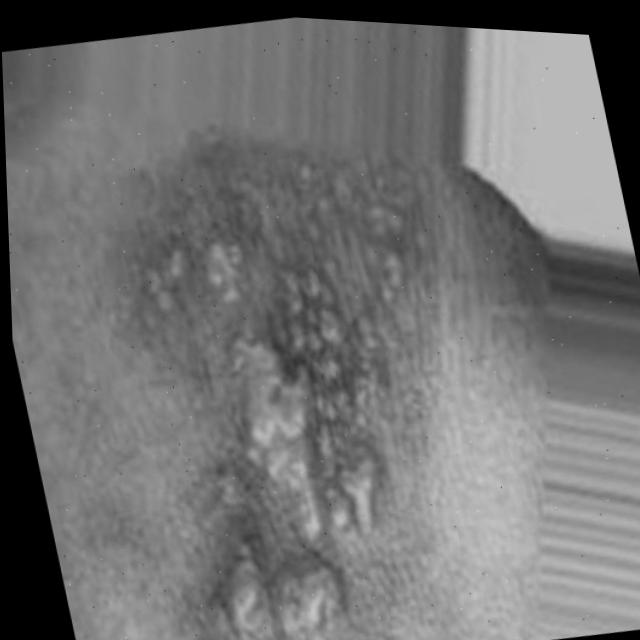Shingles: (118, 126, 491, 640)
